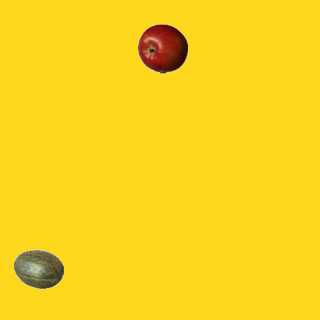Apple Braeburn: (137, 23, 187, 73)
Melon Piel de Sapo: (13, 244, 63, 294)
